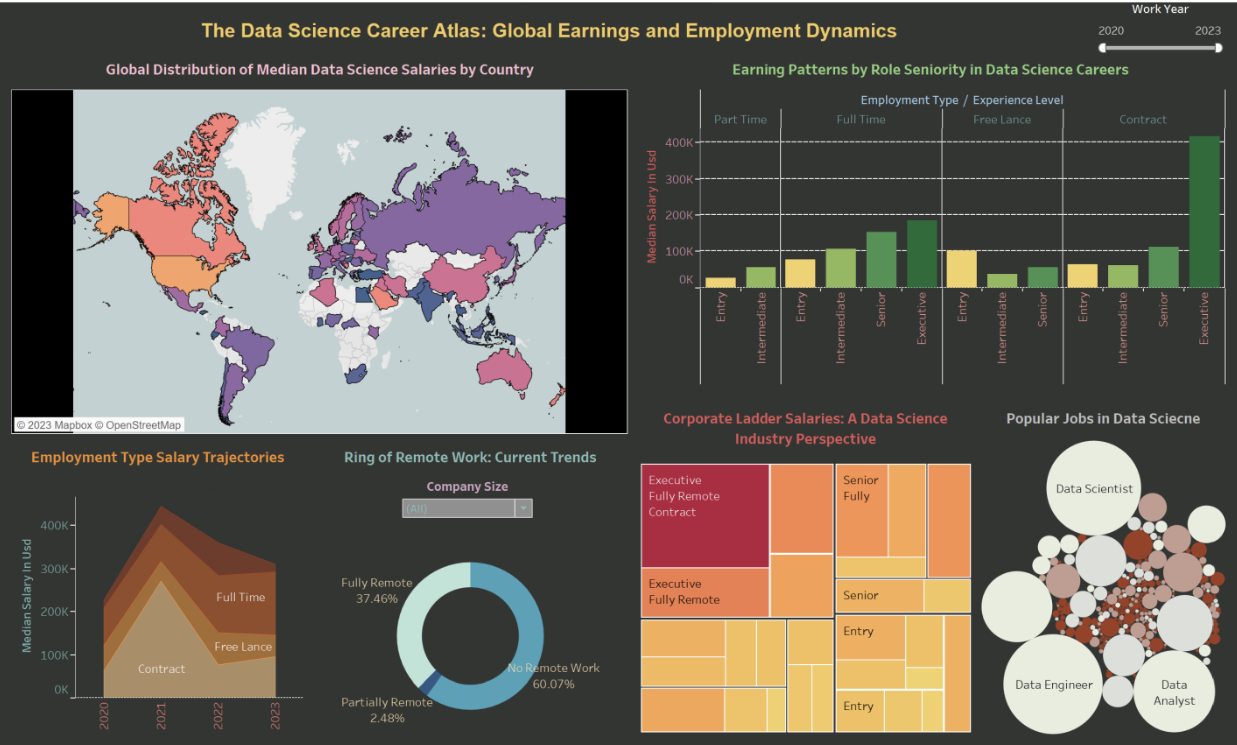

Layout of this report page (visuals, bound fields, positions):
{"tool":"tableau","page":{"name":"DS_Atlas_Final_Copy","canvas":[1000,1000],"units":"permille","ordinal":0},"visuals":[{"type":"text","box":[7.5,12.8,873.5,53.8]},{"type":"blank","box":[880.9,12.8,111.6,53.8]},{"type":"worksheet","title":"Geo_data","mark":"Multipolygon","box":[7.5,66.6,502.8,517.7]},{"type":"worksheet","title":"Trend1","mark":"Automatic","rows":["salary_in_usd"],"cols":["employment_type","experience_level"],"box":[510.2,66.6,482.3,466.3]},{"type":"worksheet","title":"Heatmap","mark":"Automatic","box":[510.2,532.9,279.6,454.3]},{"type":"worksheet","title":"Popular","mark":"Circle","box":[789.8,532.9,202.7,454.3]},{"type":"worksheet","title":"Trend2","mark":"Area","rows":["salary_in_usd"],"cols":["work_year"],"box":[7.5,584.3,242,402.9]},{"type":"worksheet","title":"Ring","mark":"Pie","rows":["Calculation_997828825154002945","Calculation_997828825154002945"],"box":[249.4,584.3,260.8,402.9]},{"type":"filter","title":"Ring","param":"[federated.0xfsq2y1qqxzdi1bnfuqi0gm9ru3].[none:company_size:nk]","box":[322.8,637.8,110.3,73.7]}]}

Visuals, with their boxes on the dashboard's canvas, which has no fixed pixel size, in thousandths of its width and height (x1, y1, x2, y2). These are canvas units, not pixel positions in the 1237x745 screenshot, which may show the page scaled, cropped or inside an application window:
text: 8,13,881,67
blank: 881,13,992,67
"Geo_data" worksheet (Multipolygon marks): 8,67,510,584
"Trend1" worksheet: 510,67,992,533
"Heatmap" worksheet: 510,533,790,987
"Popular" worksheet (Circle marks): 790,533,992,987
"Trend2" worksheet (Area marks): 8,584,250,987
"Ring" worksheet (Pie marks): 249,584,510,987
"Ring" filter: 323,638,433,712
